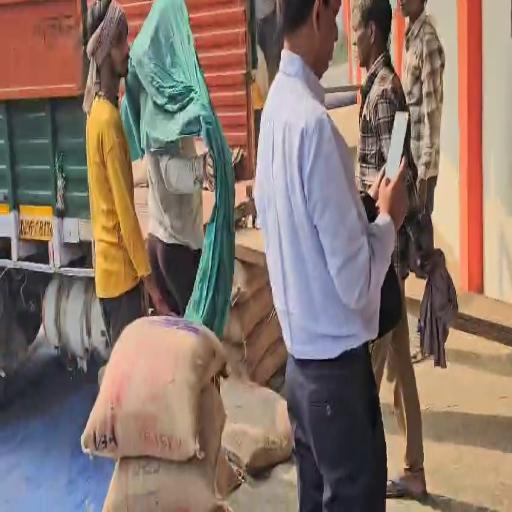bag: (86, 306, 234, 460)
